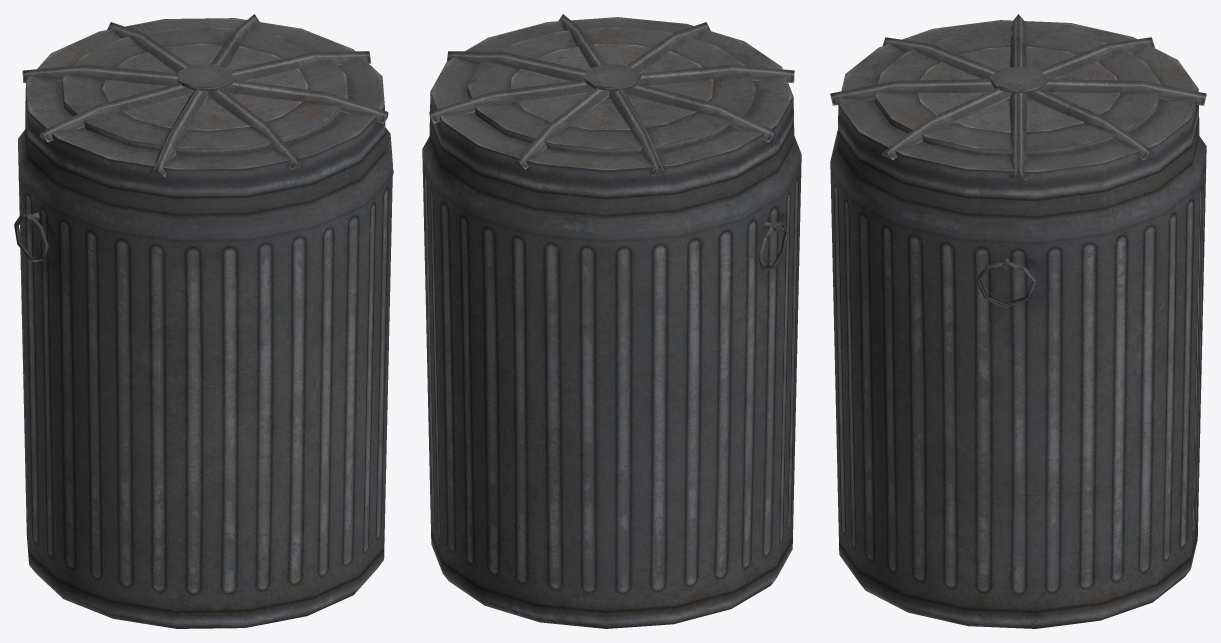
The model's file is Trash_Can_2.glb.
The picture shows the model from 3 angles, left to right: view 1: azimuth 30°, elevation 25°; view 2: azimuth 150°, elevation 25°; view 3: azimuth 270°, elevation 25°; orthographic projection.
Visible parts, largest first — view 1: Trash_Can_2__LOD3; view 2: Trash_Can_2__LOD3; view 3: Trash_Can_2__LOD3.
Part boxes in pixels (box(x1,y1,x2,y2)): Trash_Can_2__LOD3: box(14, 14, 393, 628); Trash_Can_2__LOD3: box(422, 14, 801, 628); Trash_Can_2__LOD3: box(830, 14, 1206, 628).
Bounding box in the file's own units: 0.5345 × 0.7145 × 0.5107.
1 material, 1 textured.
